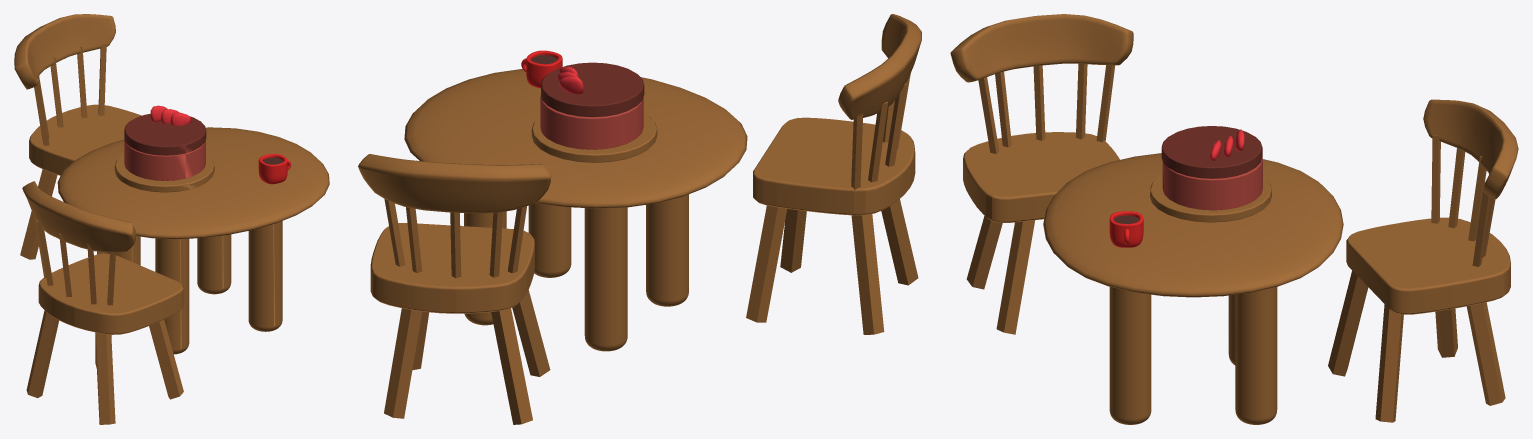
Rendered from patio.glb.
3 renders of one model, left to right at view 1: azimuth 30°, elevation 25°; view 2: azimuth 150°, elevation 25°; view 3: azimuth 270°, elevation 25°, orthographic. The views are drawn at different scales.
Visible parts, largest first — view 1: Cube.001, Shape 2, main, Shape 2.001, backrest.001, backrest, Cylinder, main.001, Cylinder 37, Cylinder 4, Cylinder 35, Cylinder 3 (+3 smaller); view 2: Cube.001, Shape 2, Shape 2.001, main, main.001, backrest.001, Cylinder 2, Cylinder 4, backrest, Cylinder 37, Cylinder 35, Cylinder (+3 smaller); view 3: Cube.001, Shape 2.001, main.001, Shape 2, backrest, main, Cylinder 3, Cylinder, backrest.001, Cylinder 37, Cylinder 35, Cylinder 34 (+2 smaller).
Boxes of the visible parts, x1,y1,x2,y2 form: Cube.001: [57, 127, 329, 239]; Shape 2: [38, 253, 184, 334]; main: [26, 216, 183, 424]; Shape 2.001: [29, 104, 141, 175]; backrest.001: [14, 14, 115, 89]; backrest: [22, 181, 135, 252]; Cylinder: [248, 221, 282, 331]; main.001: [20, 44, 106, 259]; Cylinder 37: [124, 113, 206, 155]; Cylinder 4: [155, 238, 189, 354]; Cylinder 35: [124, 139, 205, 180]; Cylinder 3: [197, 234, 231, 294]; Cube.001: [404, 69, 747, 208]; Shape 2: [753, 117, 915, 215]; Shape 2.001: [370, 223, 534, 313]; main: [746, 73, 918, 334]; main.001: [384, 199, 550, 424]; backrest.001: [358, 154, 551, 213]; Cylinder 2: [584, 207, 627, 351]; Cylinder 4: [646, 194, 688, 306]; backrest: [838, 14, 921, 119]; Cylinder 37: [541, 62, 644, 117]; Cylinder 35: [540, 96, 643, 149]; Cylinder: [528, 203, 571, 277]; Cube.001: [1043, 153, 1343, 297]; Shape 2.001: [1346, 217, 1510, 314]; main.001: [1328, 135, 1505, 422]; Shape 2: [963, 132, 1119, 222]; backrest: [950, 14, 1133, 82]; main: [966, 63, 1115, 334]; Cylinder 3: [1235, 287, 1277, 424]; Cylinder: [1109, 287, 1151, 424]; backrest.001: [1423, 99, 1518, 199]; Cylinder 37: [1161, 126, 1262, 178]; Cylinder 35: [1162, 158, 1262, 210]; Cylinder 34: [1150, 174, 1271, 222].
Size of what is drawn, in the model's own units: 3.61 by 2.24 by 4.44.
